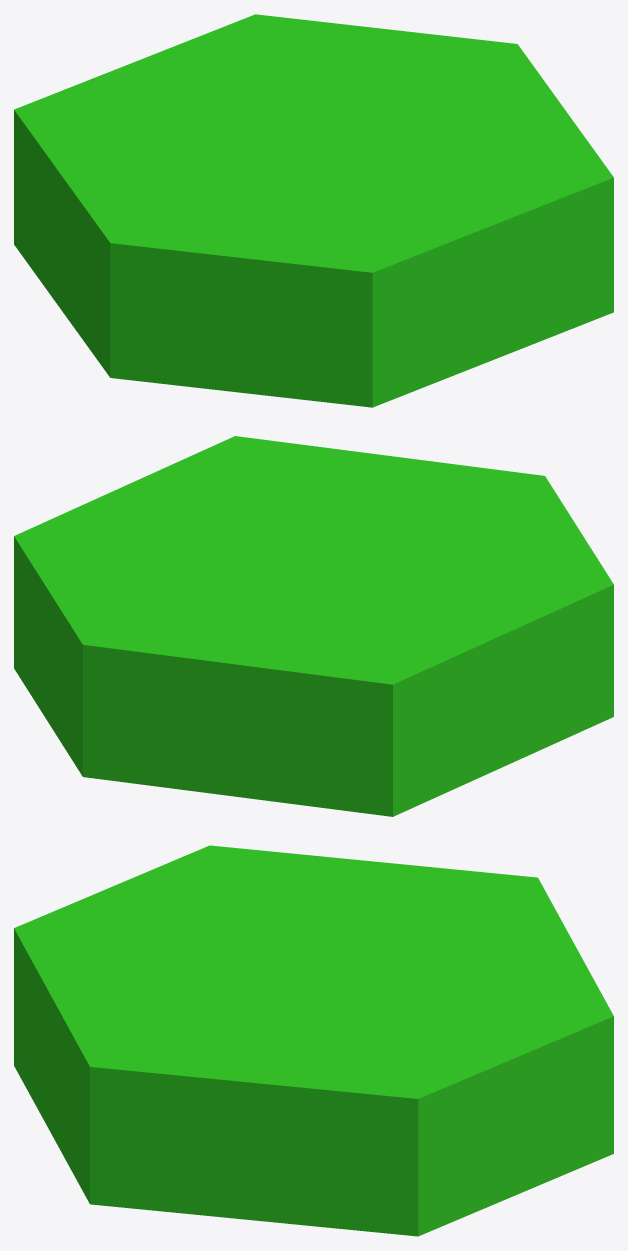
The model's file is NormalContent.fbx.
3 views of the same model, one above another, from view 1: azimuth 30°, elevation 25°; view 2: azimuth 150°, elevation 25°; view 3: azimuth 270°, elevation 25° (orthographic). The views are drawn at different scales.
Visible parts, largest first — view 1: Model; view 2: Model; view 3: Model.
Part boxes in pixels (box(x1,y1,x2,y2)): Model: box(14, 14, 613, 407); Model: box(14, 436, 613, 816); Model: box(14, 845, 613, 1236).
Size of what is drawn, in the model's own units: 1.22 by 0.308 by 1.22.
